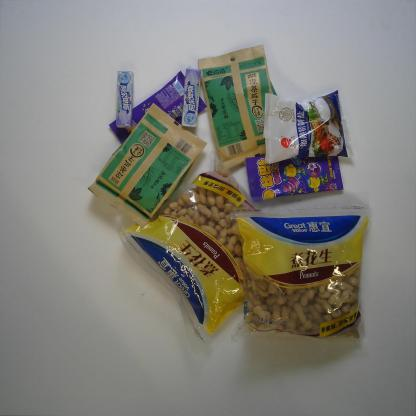Candy: (108, 71, 207, 144), (245, 154, 344, 204), (180, 67, 202, 128), (115, 70, 134, 129)
Dried Food: (117, 148, 263, 350), (227, 191, 371, 344), (87, 102, 207, 229), (198, 44, 278, 170)
Seasoner: (262, 89, 352, 165)
